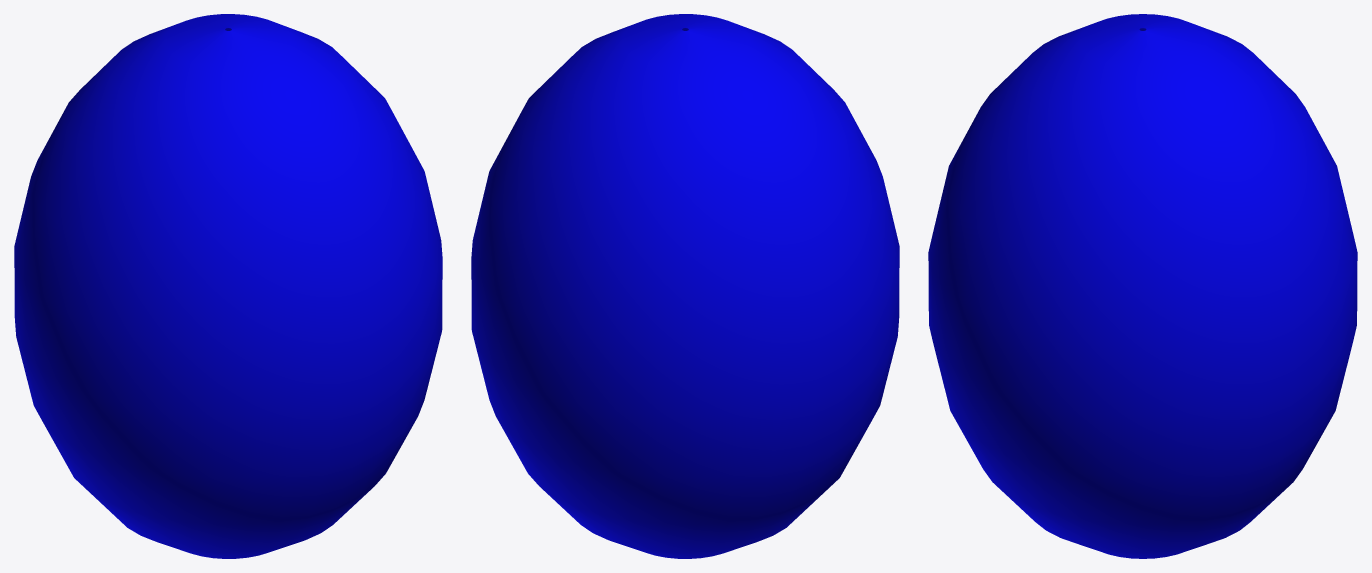
The model's file is FlyAgaric_Growth.glb.
The picture shows the model from 3 angles, left to right: view 1: azimuth 30°, elevation 25°; view 2: azimuth 150°, elevation 25°; view 3: azimuth 270°, elevation 25°; orthographic projection.
Visible parts, largest first — view 1: FlyAgaric; view 2: FlyAgaric; view 3: FlyAgaric.
Boxes of the visible parts, x1,y1,x2,y2 form: FlyAgaric: (14,14,442,558); FlyAgaric: (471,14,899,558); FlyAgaric: (928,14,1357,558).
Bounding box in the file's own units: 0.0495 × 0.0654 × 0.0495.
